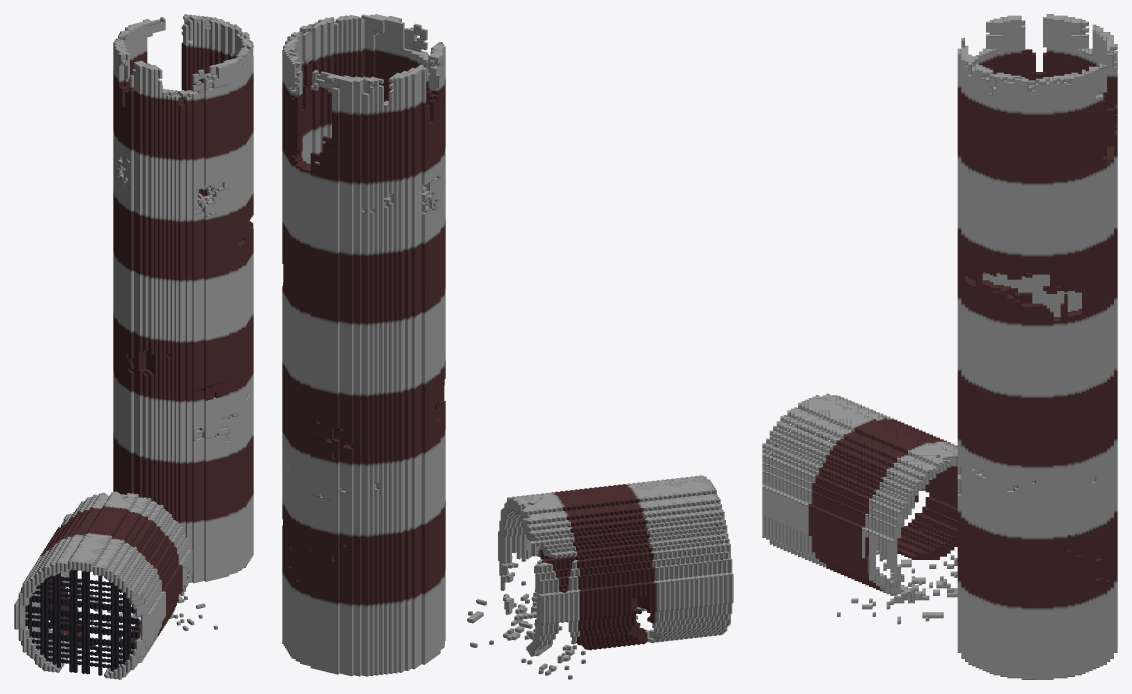
Rendered from fabryka_zniszczony_komin.dae.
3 renders of one model, left to right at view 1: azimuth 30°, elevation 25°; view 2: azimuth 150°, elevation 25°; view 3: azimuth 270°, elevation 25°, orthographic. The views are drawn at different scales.
Parts seen in each view (by area): view 1: Content; view 2: Content; view 3: Content.
Part boxes in pixels (bbox=[...]): Content: bbox=[14, 14, 253, 679]; Content: bbox=[282, 14, 733, 679]; Content: bbox=[762, 14, 1117, 679].
Size of the model in its own units: 115 by 186 by 100.
1 material, 1 textured.
